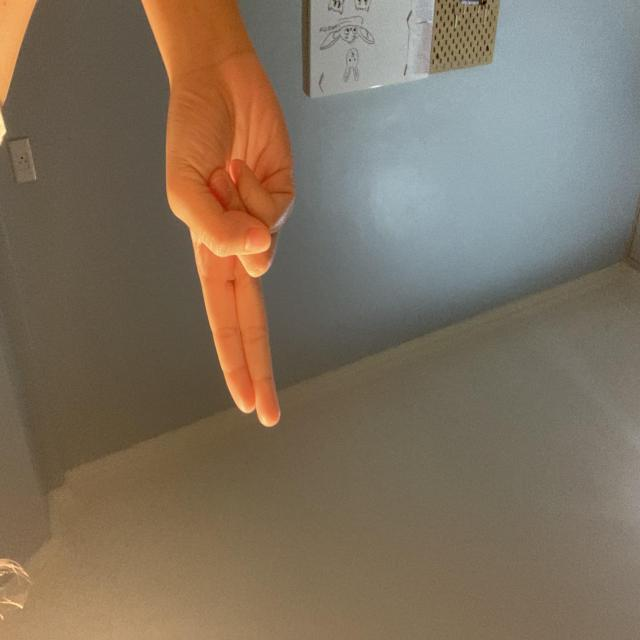U: (344, 212, 475, 588)
